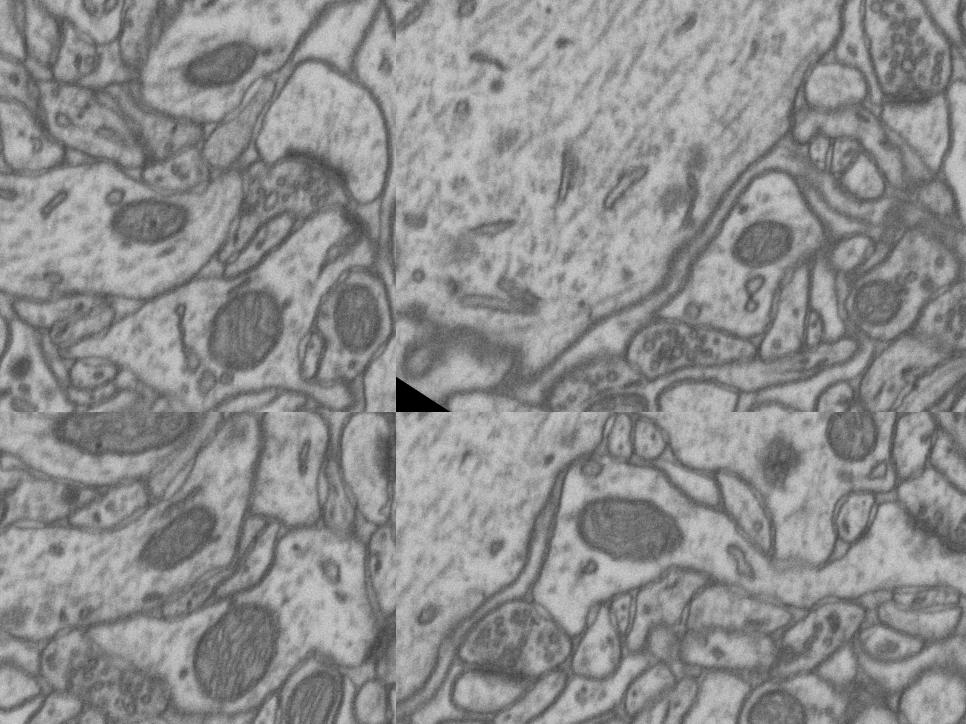mitochondria: (544, 455, 701, 604), (170, 577, 308, 724), (178, 262, 311, 404), (37, 412, 208, 507), (128, 473, 241, 594), (91, 162, 206, 278), (699, 187, 813, 304), (164, 6, 278, 122), (302, 258, 396, 375), (828, 254, 927, 347), (545, 351, 677, 412), (261, 651, 367, 724), (800, 412, 905, 485), (723, 660, 841, 724), (0, 457, 25, 554)
